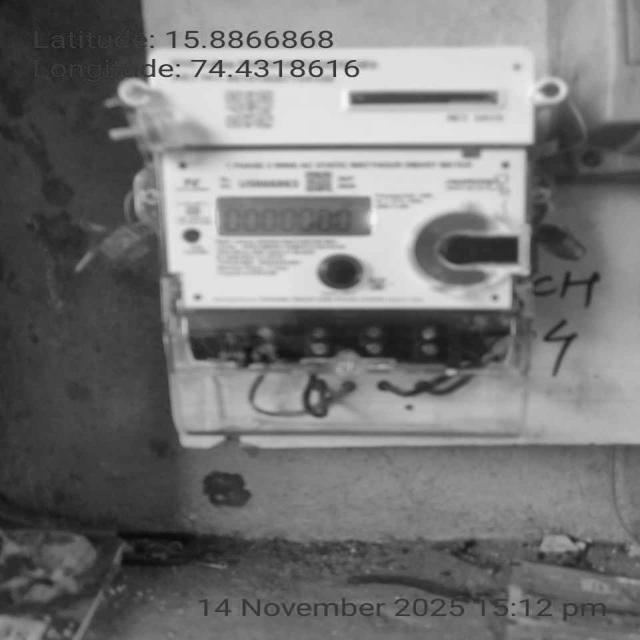meter: (147, 45, 529, 313)
